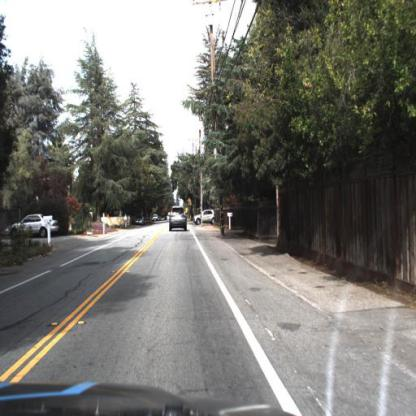car: (7, 215, 61, 241), (169, 202, 190, 232), (193, 209, 214, 227)
